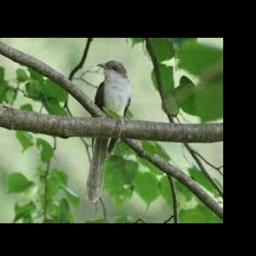Cuckoo: (87, 60, 132, 203)
